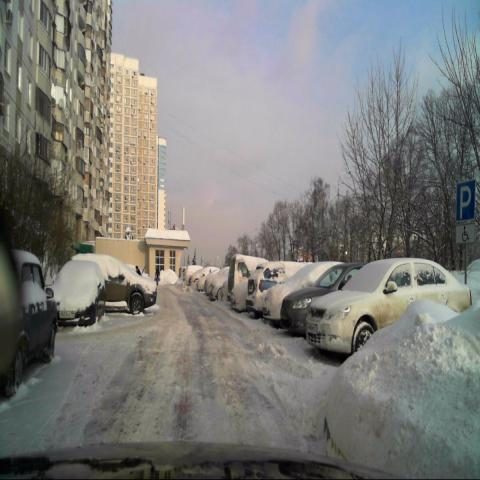6_4: (457, 181, 476, 221)
8_17: (455, 224, 476, 243)
